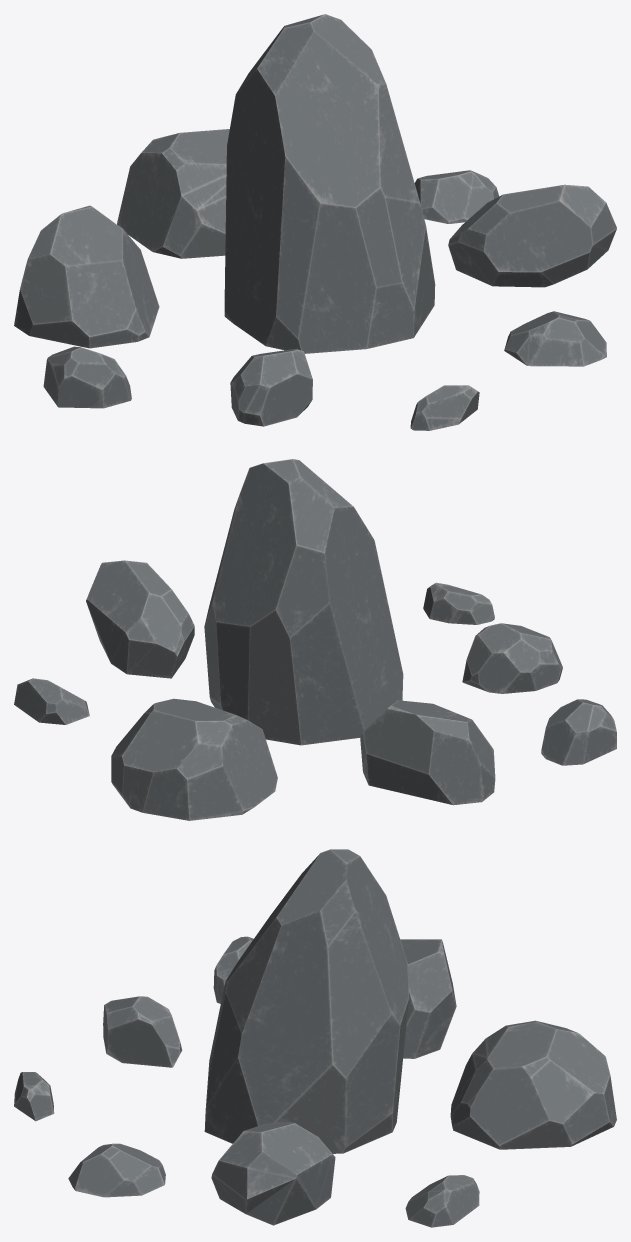
The model's file is Low_Poly_Rocks.fbx.
3 renders of one model, top to bottom at view 1: azimuth 30°, elevation 25°; view 2: azimuth 150°, elevation 25°; view 3: azimuth 270°, elevation 25°, orthographic. The views are drawn at different scales.
Parts seen in each view (by area): view 1: empty_3; view 2: empty_3; view 3: empty_3.
Part boxes in pixels (box(x1,y1,x2,y2)): empty_3: box(14, 14, 616, 430); empty_3: box(14, 459, 616, 820); empty_3: box(14, 849, 616, 1227).
Size of the model in its own units: 200 by 94.28 by 193.
1 material, 1 textured.
